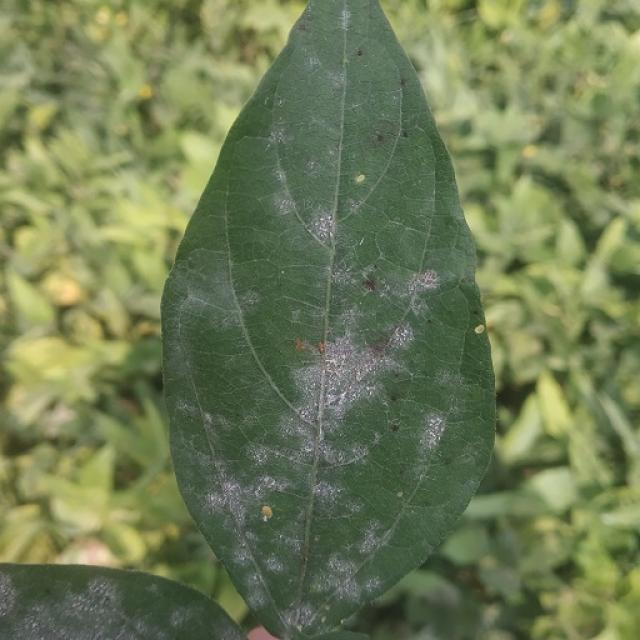Blackgram: (162, 0, 495, 636)
Powdery_Mildew: (215, 441, 417, 637), (279, 255, 430, 454), (202, 460, 288, 590), (8, 572, 149, 639), (302, 522, 382, 623), (305, 332, 385, 421), (298, 338, 381, 412), (278, 180, 340, 241), (301, 421, 365, 471), (209, 471, 257, 528), (395, 272, 443, 324), (0, 571, 40, 629), (319, 548, 361, 595), (309, 473, 349, 512), (248, 471, 289, 506), (352, 521, 386, 561), (247, 441, 286, 471), (419, 415, 446, 454), (325, 381, 352, 413), (292, 603, 322, 631), (310, 212, 335, 243), (263, 550, 288, 575), (171, 609, 189, 629), (339, 8, 352, 31), (420, 270, 438, 286), (242, 290, 260, 306), (395, 325, 411, 343), (273, 127, 287, 146), (299, 407, 312, 421), (328, 396, 340, 407), (204, 412, 213, 423), (276, 98, 284, 107), (328, 230, 334, 240), (262, 515, 268, 522), (397, 491, 403, 498), (320, 616, 326, 623), (241, 540, 246, 548), (314, 536, 320, 542), (281, 270, 285, 275)
